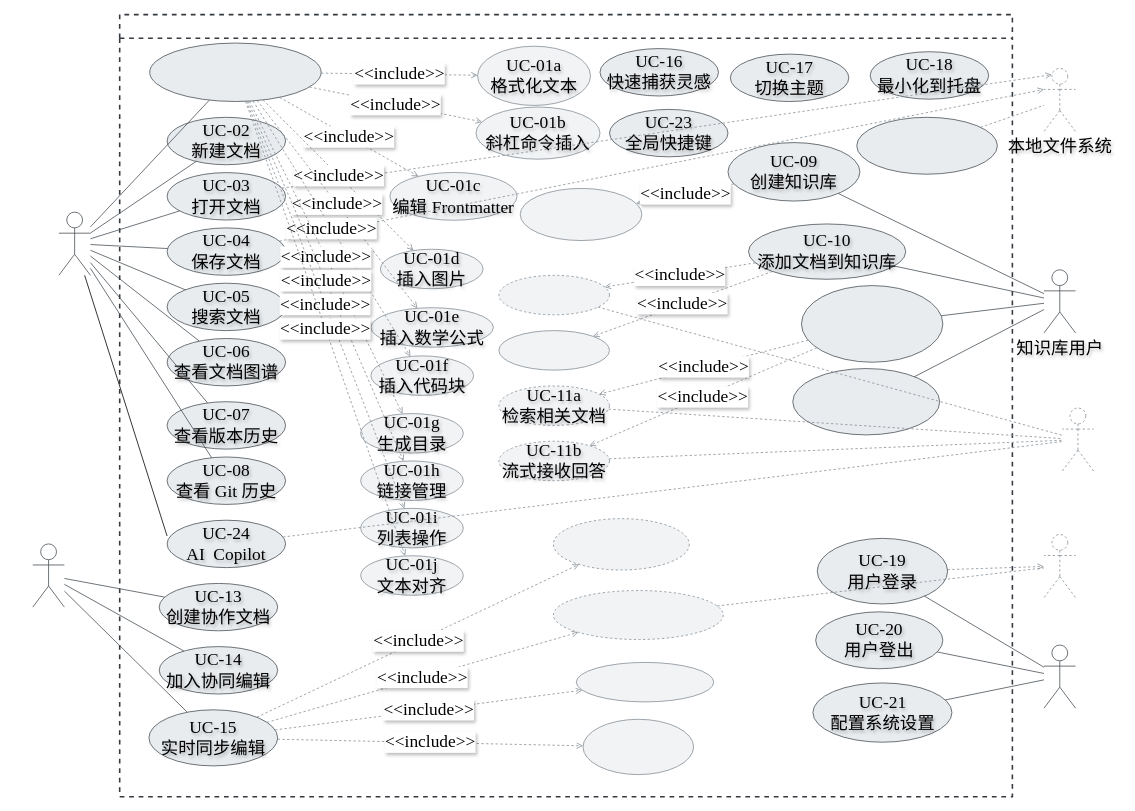
Image size: 1135x811. Some labels were removed from this diagram. The centre of each missing label's shape, as x and y in pixels:
SiliconFlow: (1077,439)
Supabase: (1059,566)
UC-01 编辑 Markdown 文档: (235,72)
UC-10a 生成向量嵌入: (553,295)
UC-11 知识库对话问答: (872,323)
UC-12 删除知识库文档: (866,401)
UC-12a 知识库配置: (580,214)
UC-12b 向量索引管理: (553,350)
UC-15a 本地 SQLite 持久化: (621,544)
UC-15b 云端数据同步: (638,615)
UC-15c 光标同步: (645,682)
UC-15d 用户状态显示: (638,747)
UC-22 文件关联打开: (926,145)
协作用户: (48,575)
普通用户: (74,243)
系统管理员: (1059,676)
